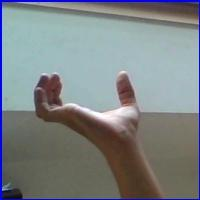B: (30, 64, 151, 155)
